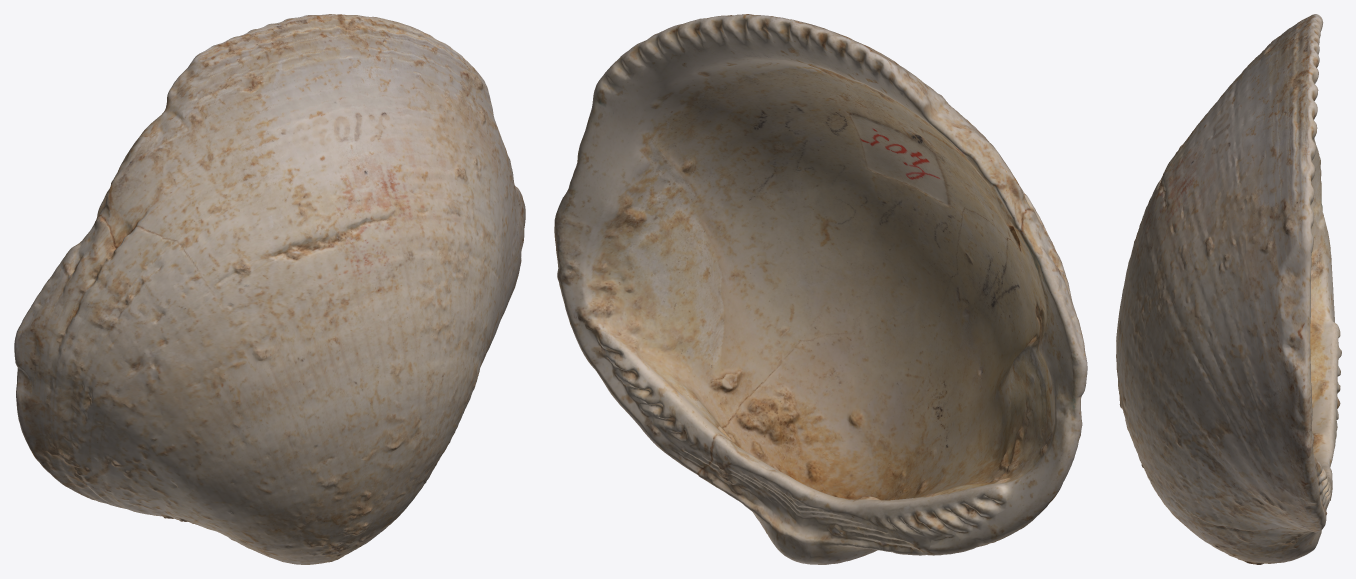
Rendered from EWS0016575.glb.
The picture shows the model from 3 angles, left to right: view 1: azimuth 30°, elevation 25°; view 2: azimuth 150°, elevation 25°; view 3: azimuth 270°, elevation 25°; orthographic projection. The views are drawn at different scales.
Parts seen in each view (by area): view 1: input; view 2: input; view 3: input.
Part boxes in pixels (bbox=[...]): input: bbox=[14, 14, 525, 564]; input: bbox=[554, 14, 1087, 564]; input: bbox=[1116, 14, 1341, 564].
Bounding box in the file's own units: 0.0587 × 0.0575 × 0.0228.
Materials: 1 (1 with a texture image).
